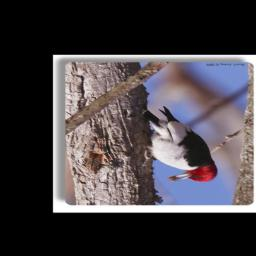Woodpecker: (141, 107, 218, 182)
